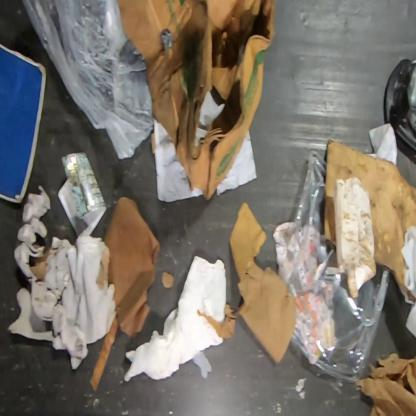cardboard: (115, 0, 276, 203), (29, 196, 161, 393), (196, 202, 296, 365), (323, 139, 415, 286), (0, 40, 48, 209), (160, 271, 176, 289)
rigid_plastic: (277, 149, 391, 388), (384, 57, 415, 166)
soft_plastic: (20, 0, 154, 161)
